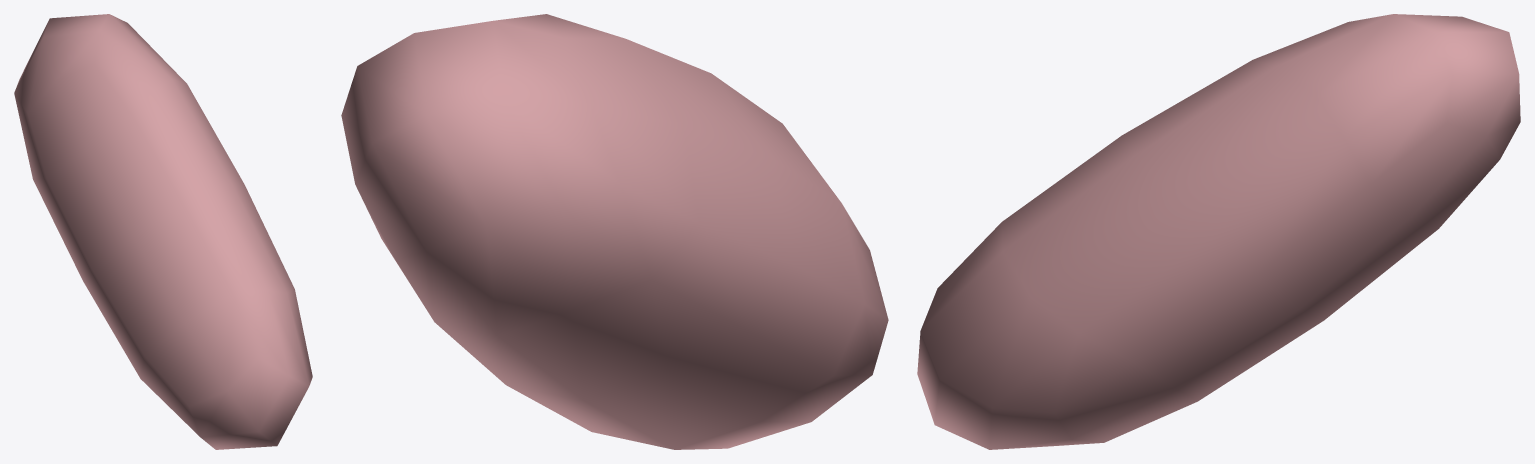
The picture shows the model from 3 angles, left to right: view 1: azimuth 30°, elevation 25°; view 2: azimuth 150°, elevation 25°; view 3: azimuth 270°, elevation 25°; orthographic projection. The views are drawn at different scales.
Visible parts, largest first — view 1: ZA_395684baa60d79bb; view 2: ZA_395684baa60d79bb; view 3: ZA_395684baa60d79bb.
Part boxes in pixels (<box>): ZA_395684baa60d79bb: <box>14,14,312,449</box>; ZA_395684baa60d79bb: <box>341,14,888,449</box>; ZA_395684baa60d79bb: <box>917,14,1520,449</box>.
Bounding box in the file's own units: 0.00166 × 0.00298 × 0.00377.
